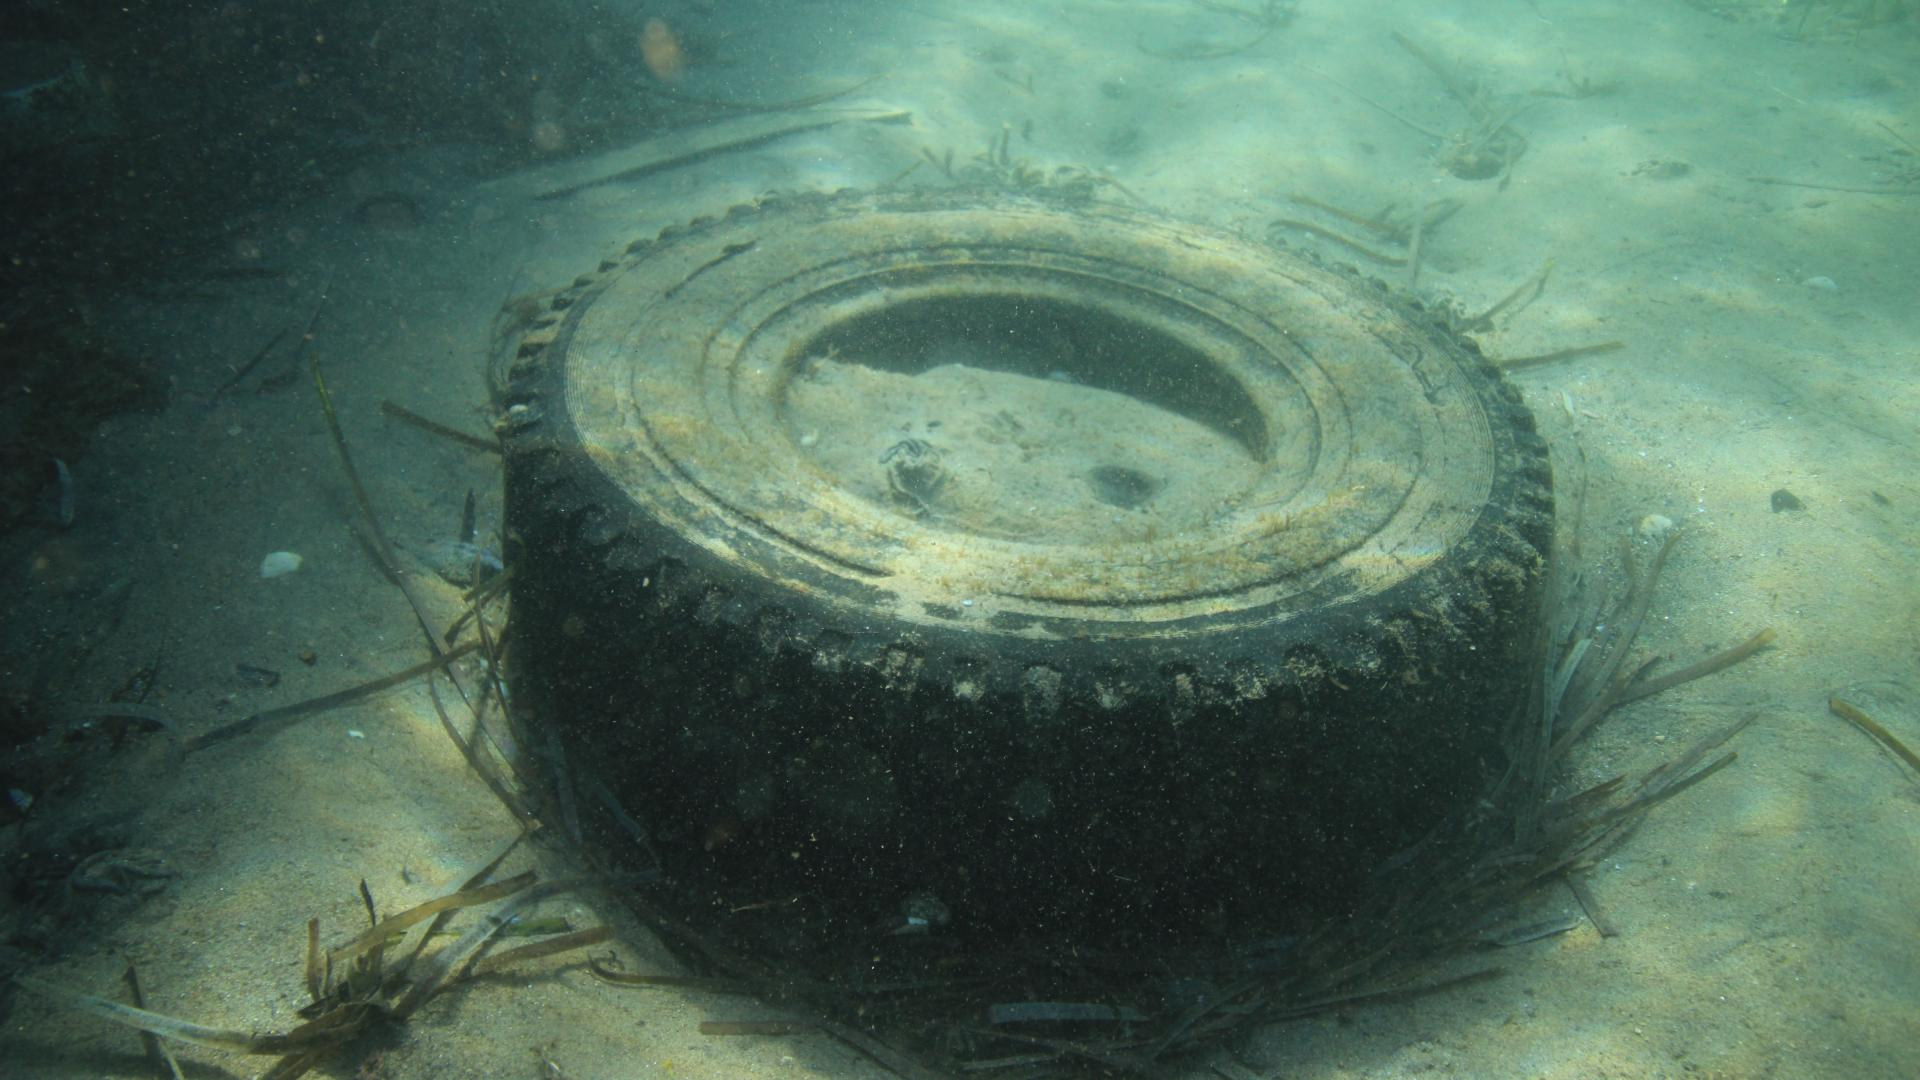tire: (498, 179, 1553, 1034)
